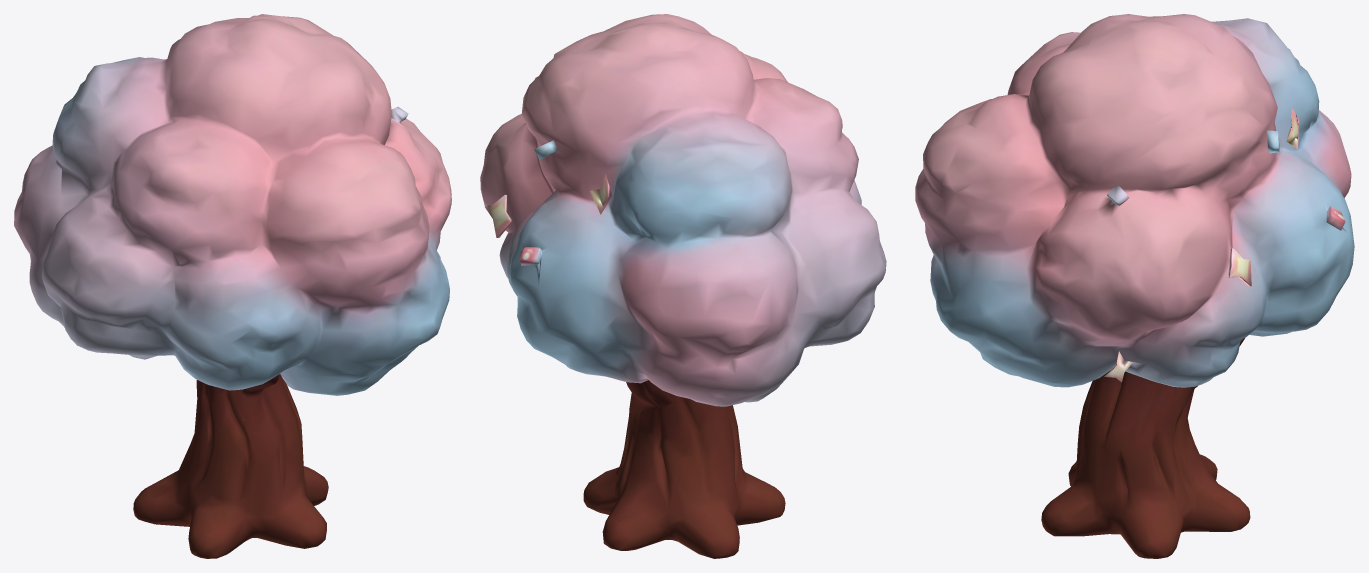
Rendered from deco_cotton.glb.
The picture shows the model from 3 angles, left to right: view 1: azimuth 30°, elevation 25°; view 2: azimuth 150°, elevation 25°; view 3: azimuth 270°, elevation 25°; orthographic projection. The views are drawn at different scales.
Parts seen in each view (by area): view 1: tripo_node_dac49f14-2b45-4559-ae38-6baab8498c13; view 2: tripo_node_dac49f14-2b45-4559-ae38-6baab8498c13; view 3: tripo_node_dac49f14-2b45-4559-ae38-6baab8498c13.
Boxes of the visible parts, x1,y1,x2,y2 form: tripo_node_dac49f14-2b45-4559-ae38-6baab8498c13: (14,14,451,558); tripo_node_dac49f14-2b45-4559-ae38-6baab8498c13: (480,14,886,558); tripo_node_dac49f14-2b45-4559-ae38-6baab8498c13: (915,14,1354,558).
Size of the model in its own units: 0.8187 by 0.9997 by 0.785.
1 material, 1 textured.
